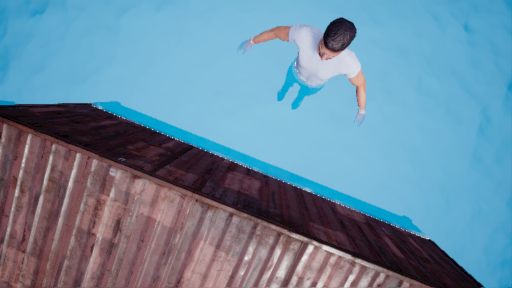person: (237, 18, 394, 126)
